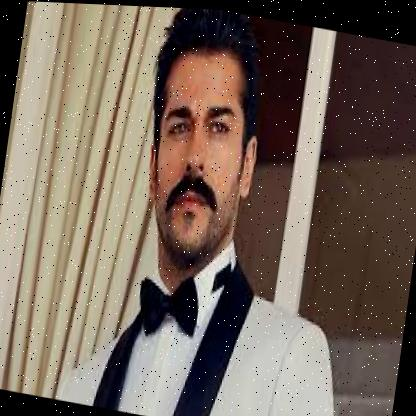person: (130, 6, 278, 283)
